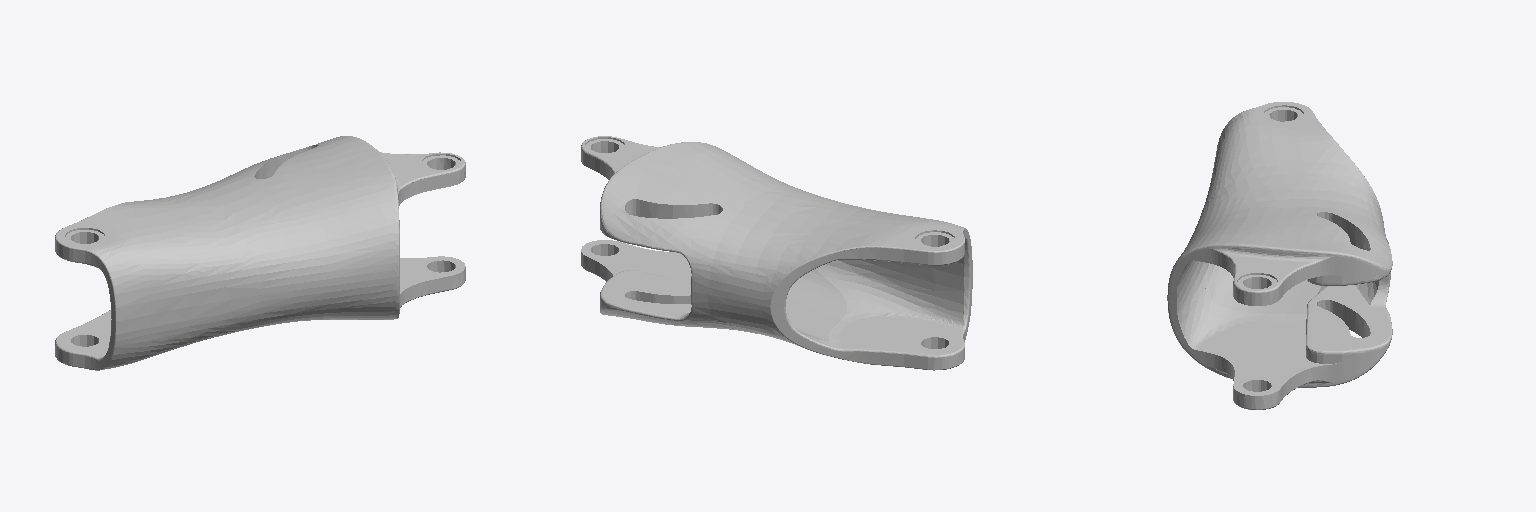
Rendered from middle_proximal.obj.
The picture shows the model from 3 angles: view 1: azimuth 30°, elevation 25°; view 2: azimuth 150°, elevation 25°; view 3: azimuth 270°, elevation 25°; orthographic projection.
Visible parts, largest first — view 1: mf_proximal_link; view 2: mf_proximal_link; view 3: mf_proximal_link.
Boxes of the visible parts, x1,y1,x2,y2 form: mf_proximal_link: [55, 136, 465, 370]; mf_proximal_link: [581, 136, 972, 370]; mf_proximal_link: [1167, 102, 1392, 409].
Bounding box in the file's own units: 0.0465 × 0.0159 × 0.0233.